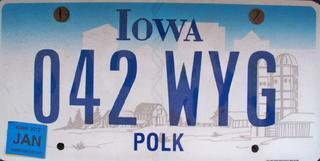placa de veiculo: (2, 3, 306, 156)
